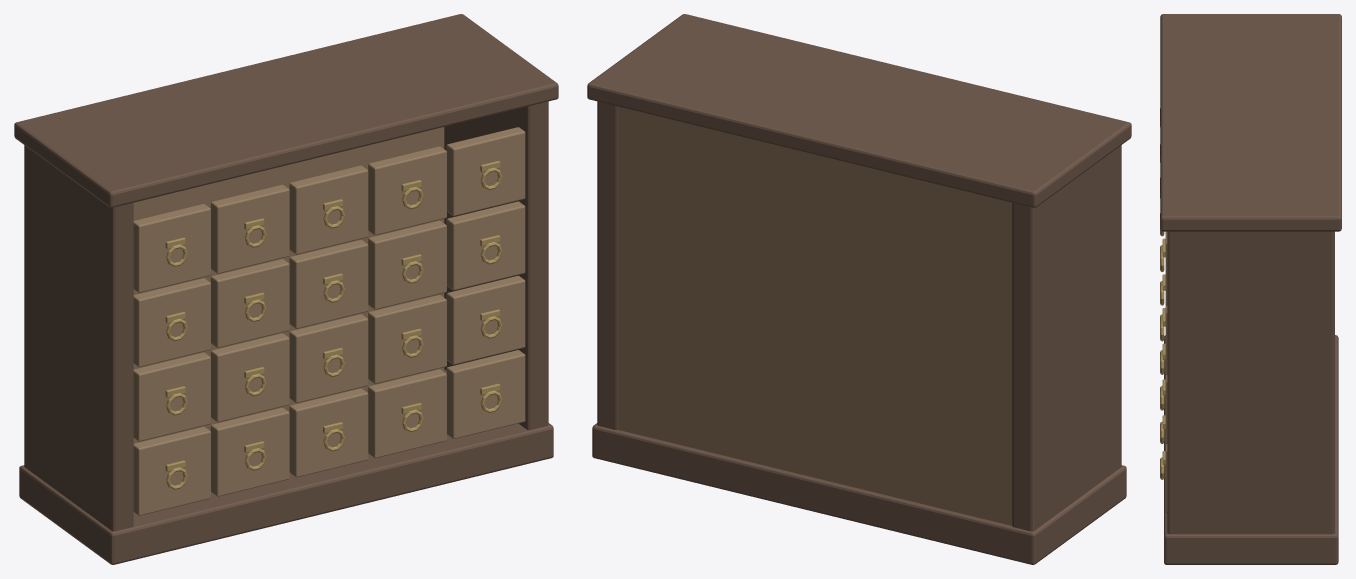
3 renders of one model, left to right at view 1: azimuth 30°, elevation 25°; view 2: azimuth 150°, elevation 25°; view 3: azimuth 270°, elevation 25°, orthographic. The views are drawn at different scales.
Parts seen in each view (by area): view 1: apothecaryCabinet; view 2: apothecaryCabinet; view 3: apothecaryCabinet.
Boxes of the visible parts, x1,y1,x2,y2 form: apothecaryCabinet: (14,14,558,564); apothecaryCabinet: (587,14,1131,564); apothecaryCabinet: (1160,14,1341,564).
Size of the model in its own units: 1.44 by 1.15 by 0.541.
